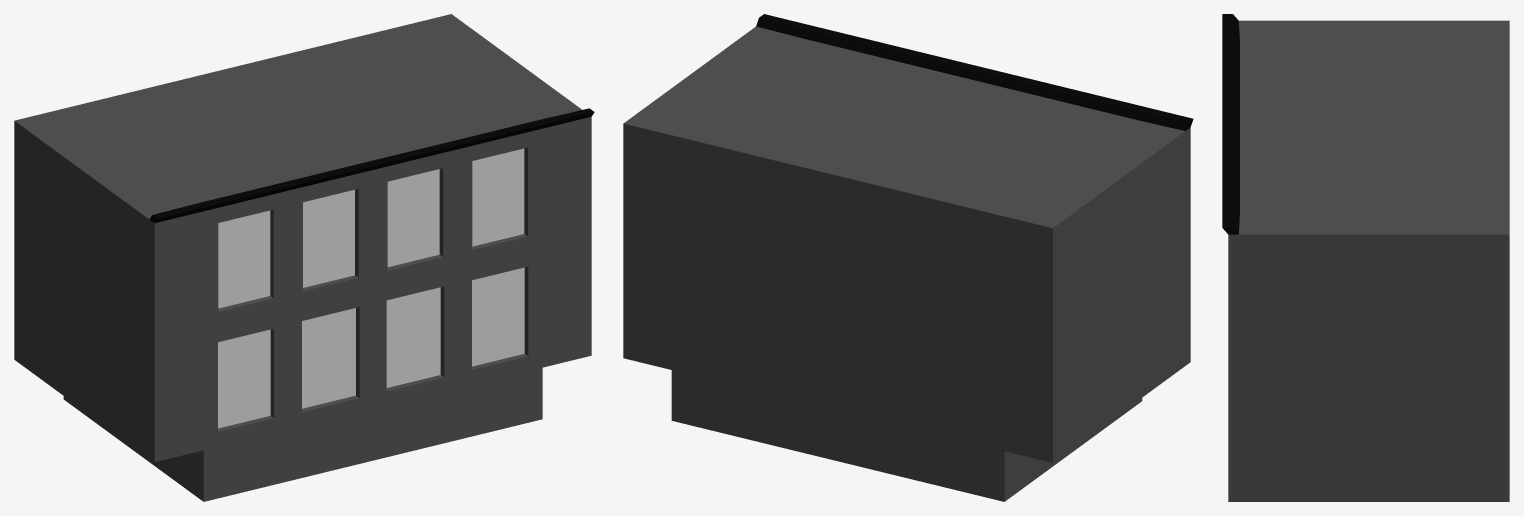
Rendered from Building_Two.glb.
The picture shows the model from 3 angles, left to right: view 1: azimuth 30°, elevation 25°; view 2: azimuth 150°, elevation 25°; view 3: azimuth 270°, elevation 25°; orthographic projection. The views are drawn at different scales.
Visible parts, largest first — view 1: Cube; view 2: Cube; view 3: Cube.
Part boxes in pixels (bbox=[...]): Cube: bbox=[14, 14, 594, 501]; Cube: bbox=[623, 14, 1193, 501]; Cube: bbox=[1222, 14, 1509, 501].
Size of the model in its own units: 51.28 by 33.33 by 29.09.
1 material, 1 textured.
